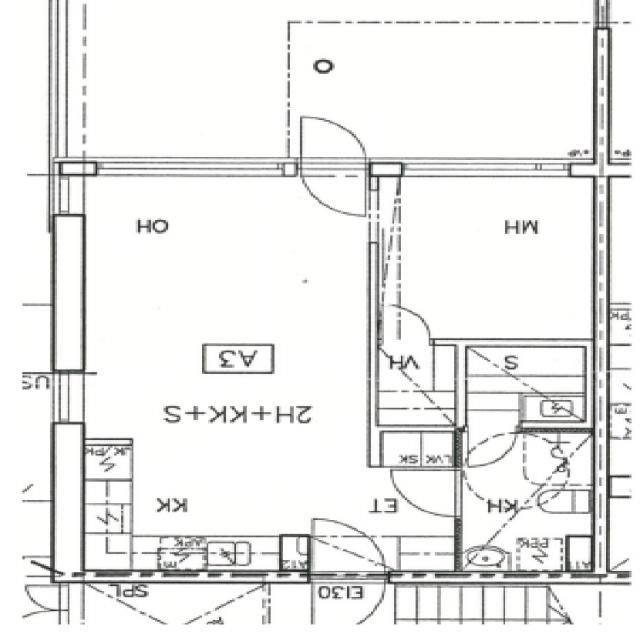door: (310, 571, 387, 638), (310, 516, 387, 583), (299, 111, 365, 177), (299, 158, 365, 224), (390, 470, 468, 517), (381, 303, 431, 346), (469, 426, 519, 468)
